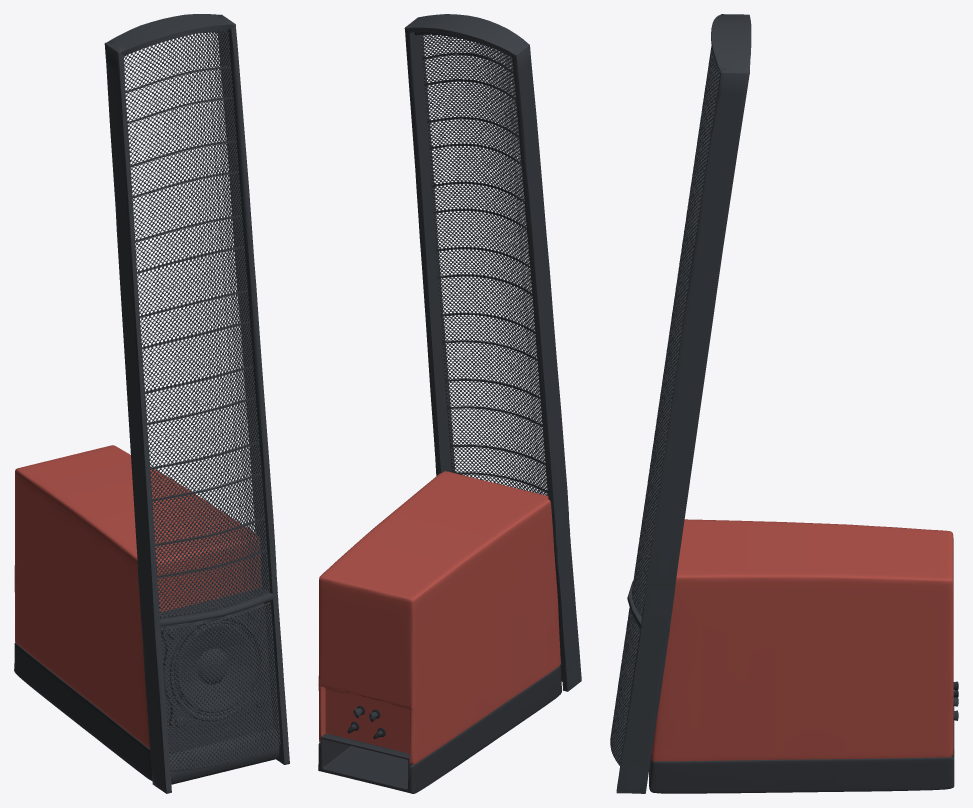
File: floorstanding-loudspeaker.glb
The picture shows the model from 3 angles, left to right: view 1: azimuth 30°, elevation 25°; view 2: azimuth 150°, elevation 25°; view 3: azimuth 270°, elevation 25°; orthographic projection. The views are drawn at different scales.
Parts seen in each view (by area): view 1: Speaker, Base_Wood, Base_Floor; view 2: Speaker, Base_Wood, Base_Floor; view 3: Base_Wood, Speaker, Base_Floor.
Part boxes in pixels (x1,y1,x2,y2): Speaker: [104, 14, 289, 793]; Base_Wood: [14, 445, 261, 748]; Base_Floor: [14, 641, 152, 780]; Speaker: [404, 14, 581, 691]; Base_Wood: [318, 471, 560, 764]; Base_Floor: [318, 665, 561, 793]; Base_Wood: [651, 519, 953, 761]; Speaker: [610, 14, 751, 793]; Base_Floor: [649, 706, 954, 793].
Bounding box in the file's own units: 0.6531 × 3.62 × 1.56.
